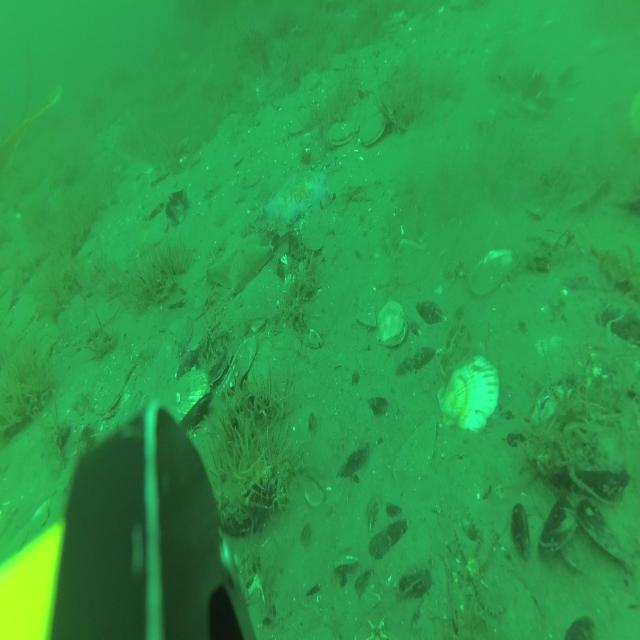scallop: (439, 352, 499, 431), (157, 373, 211, 432), (470, 248, 512, 296), (94, 366, 125, 420), (377, 300, 408, 347), (359, 111, 387, 147), (324, 121, 356, 142)
starfish: (206, 232, 275, 292), (264, 166, 329, 222)
